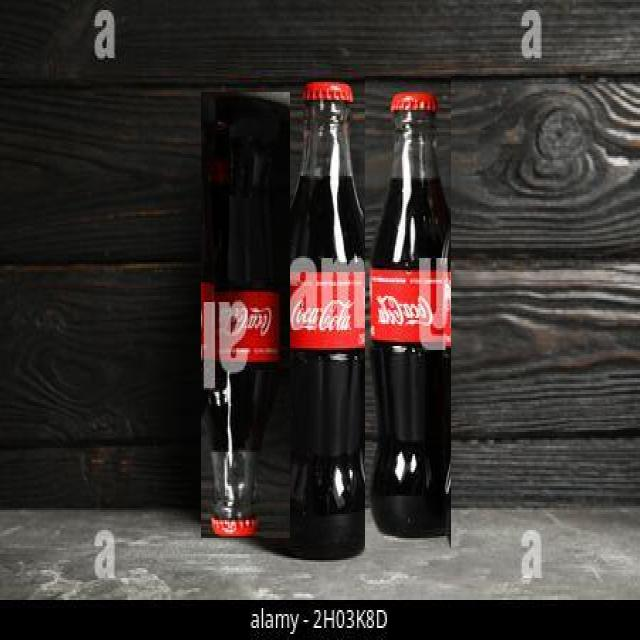coca-cola: (263, 78, 378, 566), (365, 74, 451, 548), (201, 92, 290, 538)
